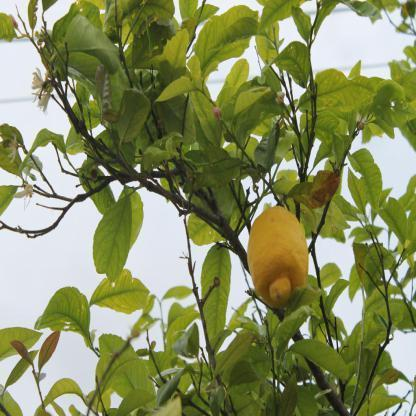lemon: (247, 206, 308, 308)
